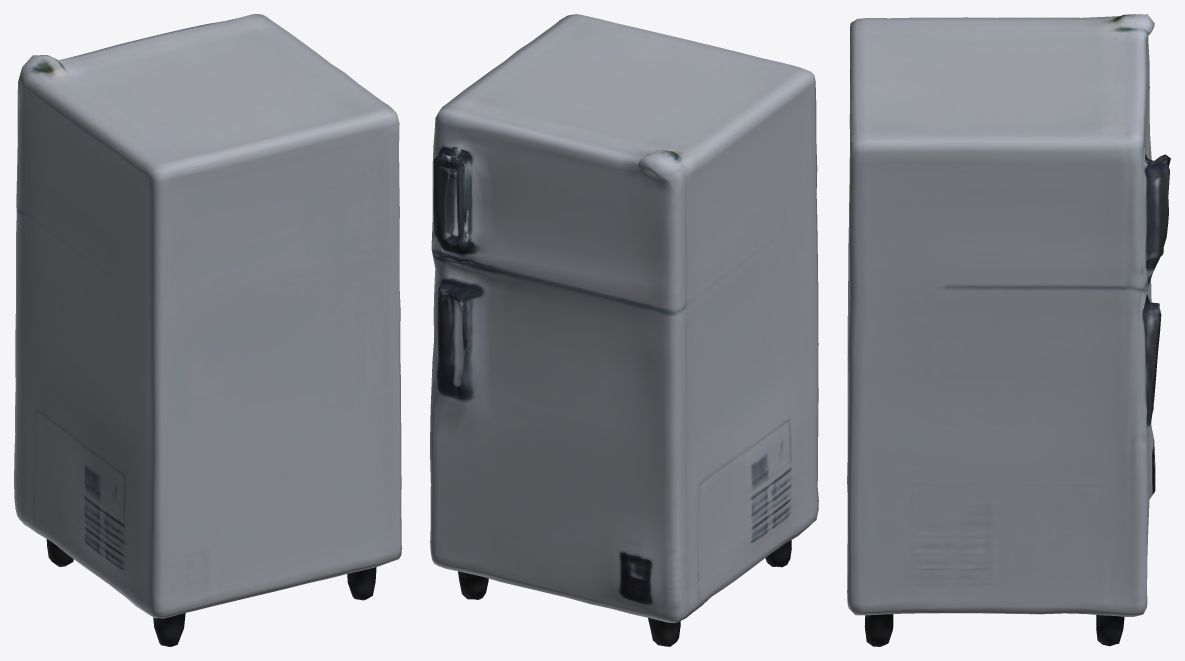
The model's file is fridge.fbx.
3 renders of one model, left to right at view 1: azimuth 30°, elevation 25°; view 2: azimuth 150°, elevation 25°; view 3: azimuth 270°, elevation 25°, orthographic. The views are drawn at different scales.
Visible parts, largest first — view 1: mesh; view 2: mesh; view 3: mesh.
Part boxes in pixels (left/top/right/bottom): mesh: left=14, top=14, right=401, bottom=646; mesh: left=430, top=14, right=818, bottom=646; mesh: left=847, top=14, right=1170, bottom=646.
Bounding box in the file's own units: 52.53 × 99.85 × 55.54.
